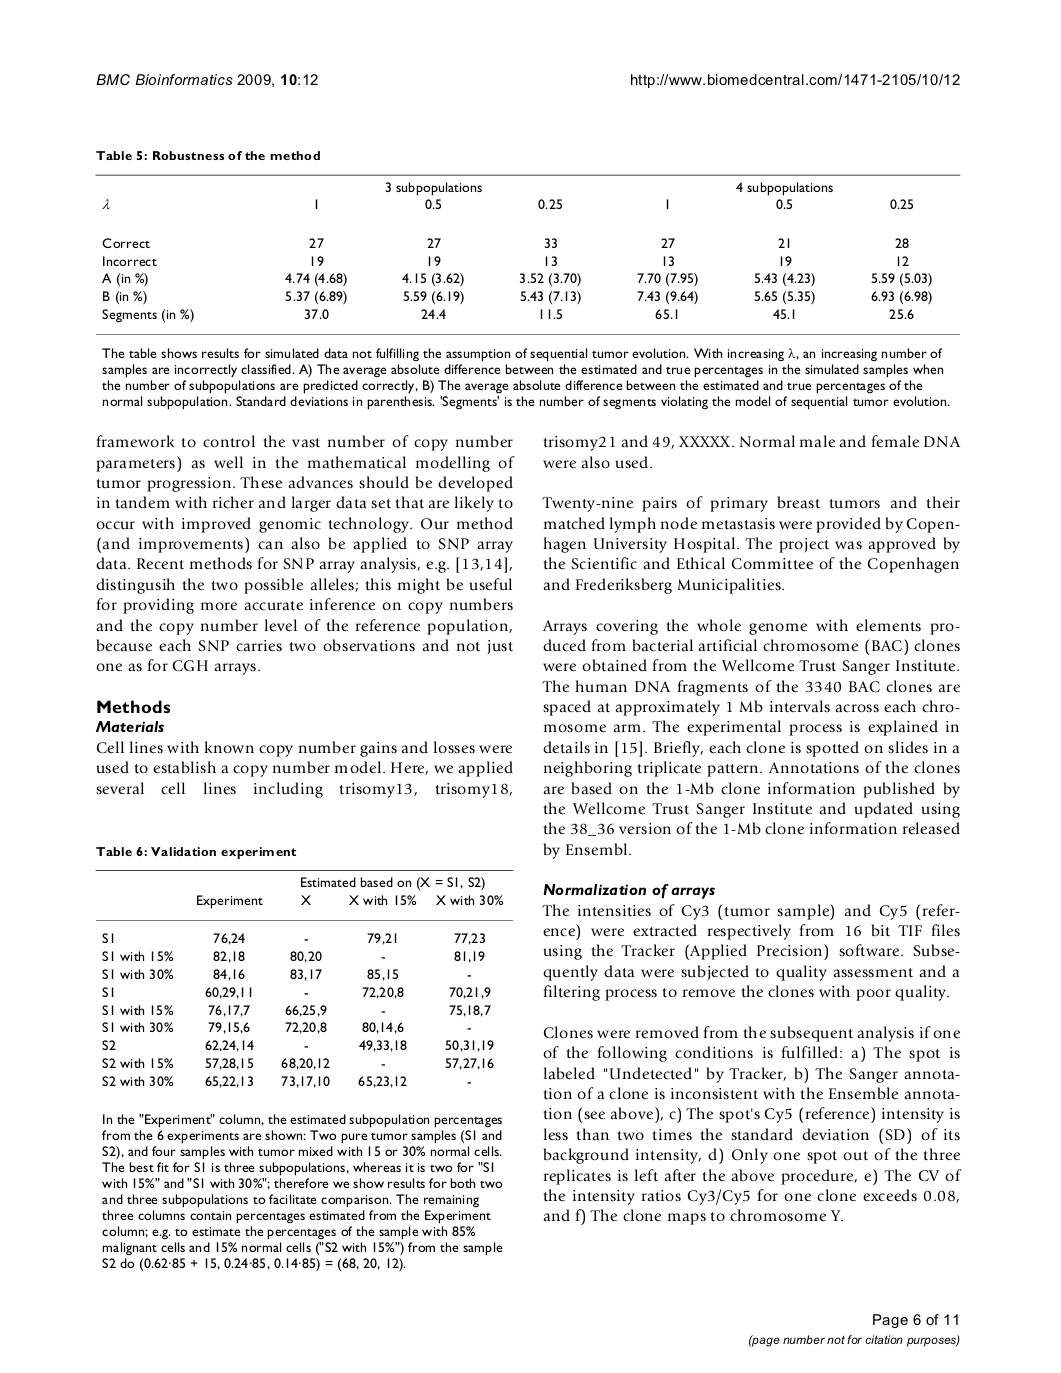Table: (95, 174, 960, 334), (95, 870, 513, 1087)
